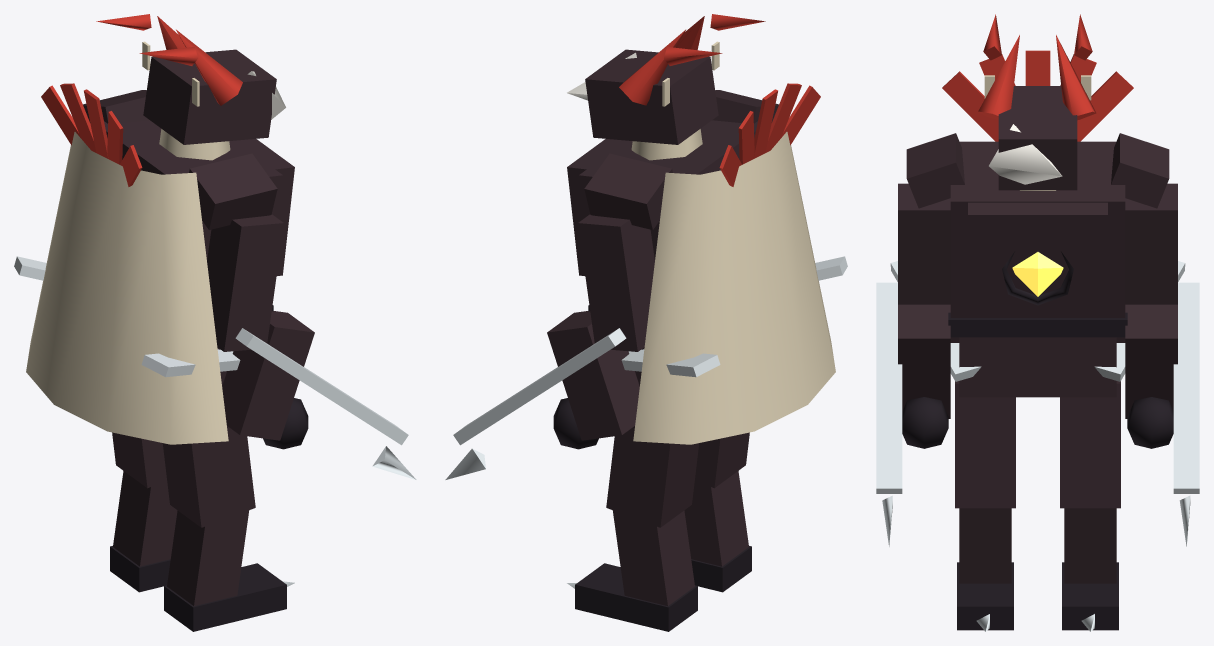
File: enemy_boss_hunter.glb
3 renders of one model, left to right at view 1: azimuth 30°, elevation 25°; view 2: azimuth 150°, elevation 25°; view 3: azimuth 270°, elevation 25°, orthographic. The views are drawn at different scales.
Visible parts, largest first — view 1: cape, head, arm_l_upper, arm_l_lower, thigh_l, shin_l, pauldron_l, shin_r, foot_l, torso, arm_l_blade, thigh_r (+14 smaller); view 2: cape, head, arm_r_upper, arm_r_lower, thigh_r, shin_r, pauldron_r, shin_l, foot_r, torso, arm_r_blade, thigh_l (+14 smaller); view 3: chest_plate, torso, hips, thigh_l, thigh_r, head, arm_l_upper, arm_r_upper, arm_l_blade, arm_r_blade, arm_l_lower, arm_r_lower (+21 smaller).
Boxes of the visible parts, left/top/right/bottom form: cape: left=26, top=132, right=228, bottom=444; head: left=143, top=49, right=276, bottom=144; arm_l_upper: left=207, top=214, right=283, bottom=351; arm_l_lower: left=222, top=311, right=314, bottom=440; thigh_l: left=162, top=426, right=255, bottom=527; shin_l: left=167, top=510, right=249, bottom=605; pauldron_l: left=189, top=153, right=277, bottom=229; shin_r: left=113, top=471, right=177, bottom=566; foot_l: left=164, top=563, right=286, bottom=631; torso: left=104, top=120, right=282, bottom=259; arm_l_blade: left=235, top=328, right=408, bottom=445; thigh_r: left=112, top=432, right=166, bottom=488; cape: left=633, top=132, right=835, bottom=444; head: left=585, top=49, right=718, bottom=144; arm_r_upper: left=578, top=214, right=654, bottom=351; arm_r_lower: left=547, top=311, right=639, bottom=440; thigh_r: left=606, top=426, right=699, bottom=527; shin_r: left=612, top=510, right=694, bottom=605; pauldron_r: left=584, top=153, right=672, bottom=229; shin_l: left=684, top=471, right=748, bottom=566; foot_r: left=575, top=563, right=697, bottom=631; torso: left=579, top=120, right=757, bottom=259; arm_r_blade: left=453, top=328, right=626, bottom=445; thigh_l: left=695, top=432, right=749, bottom=488; chest_plate: left=968, top=202, right=1107, bottom=311; torso: left=950, top=141, right=1125, bottom=342; hips: left=959, top=337, right=1116, bottom=397; thigh_l: left=955, top=381, right=1015, bottom=508; thigh_r: left=1060, top=381, right=1120, bottom=508; head: left=998, top=86, right=1077, bottom=190; arm_l_upper: left=898, top=183, right=950, bottom=304; arm_r_upper: left=1125, top=183, right=1177, bottom=304; arm_l_blade: left=876, top=282, right=902, bottom=493; arm_r_blade: left=1173, top=282, right=1199, bottom=493; arm_l_lower: left=898, top=304, right=950, bottom=418; arm_r_lower: left=1125, top=304, right=1177, bottom=418.
Bounding box in the file's own units: 0.3669 × 0.7052 × 0.37.
